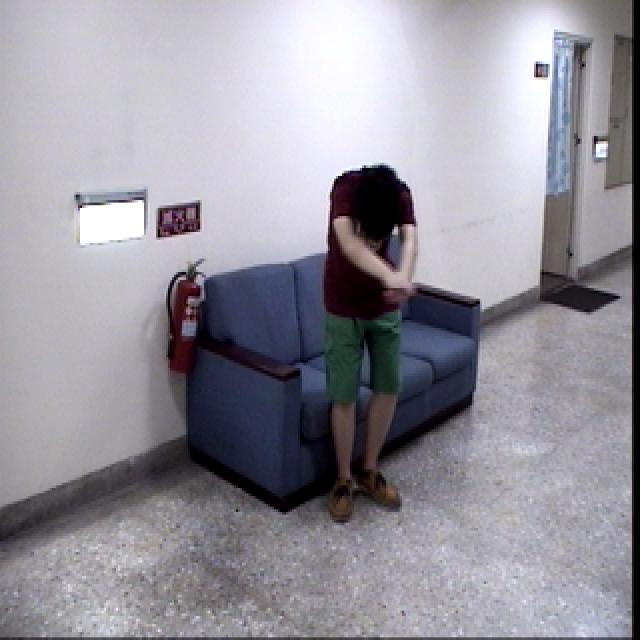bend: (317, 159, 424, 527)
